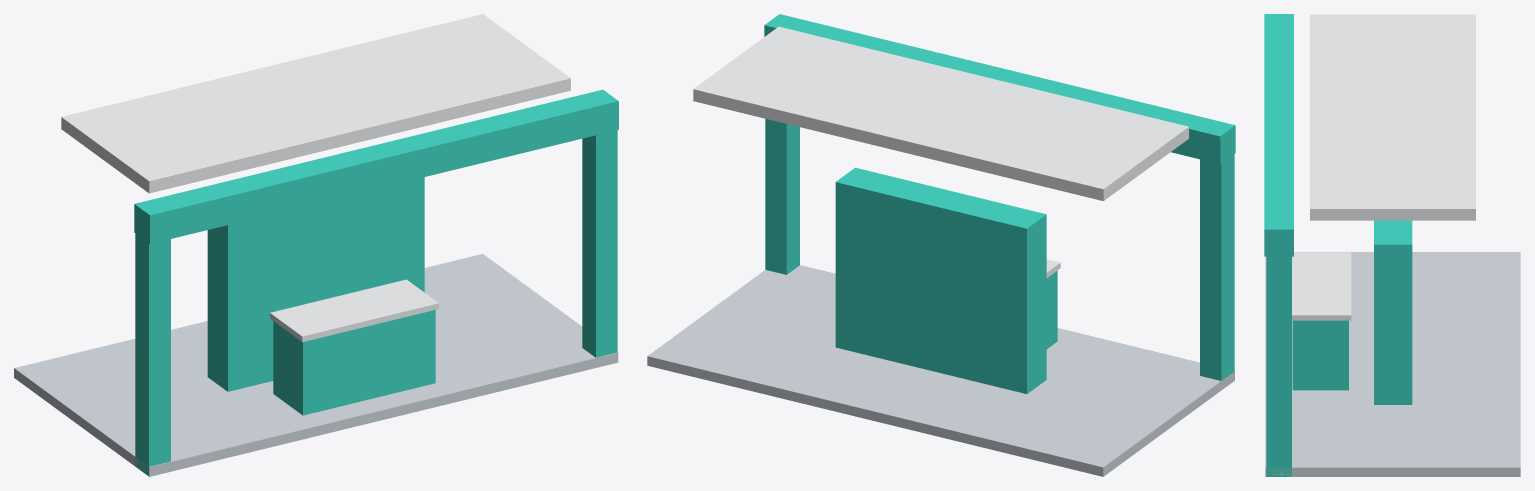
3 renders of one model, left to right at view 1: azimuth 30°, elevation 25°; view 2: azimuth 150°, elevation 25°; view 3: azimuth 270°, elevation 25°, orthographic. The views are drawn at different scales.
Visible parts, largest first — view 1: Exhibition Booth Concept; view 2: Exhibition Booth Concept; view 3: Exhibition Booth Concept.
Part boxes in pixels (left/top/right/bottom): Exhibition Booth Concept: left=14, top=14, right=618, bottom=476; Exhibition Booth Concept: left=647, top=14, right=1235, bottom=476; Exhibition Booth Concept: left=1264, top=14, right=1520, bottom=476.
Size of the model in its own units: 6 by 3.34 by 3.01.
